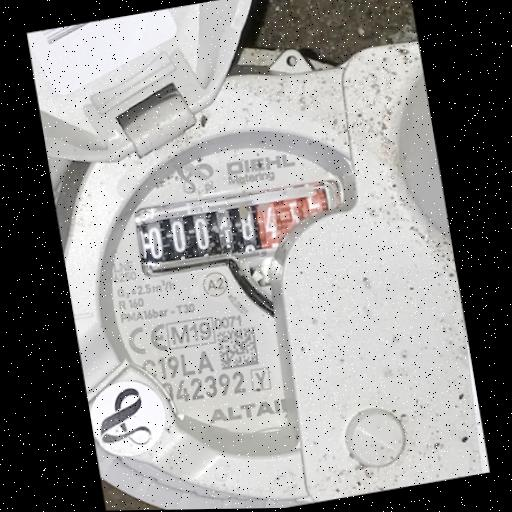0: (187, 212, 219, 259), (163, 215, 194, 262), (140, 220, 170, 266)
1: (211, 207, 243, 255)
2: (297, 187, 330, 219)
4: (256, 200, 283, 248)
5: (275, 197, 306, 239)
8: (235, 203, 262, 252)
border_water_meter_number: (130, 173, 349, 283)
